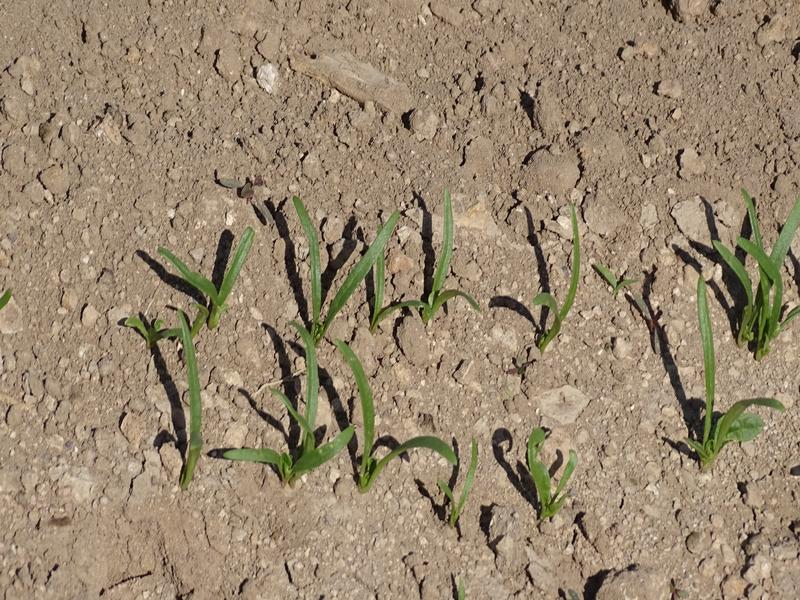Espinaca: (259, 337, 455, 500), (685, 192, 792, 465), (136, 238, 254, 478), (282, 196, 474, 323), (530, 208, 590, 335), (524, 415, 582, 511)
